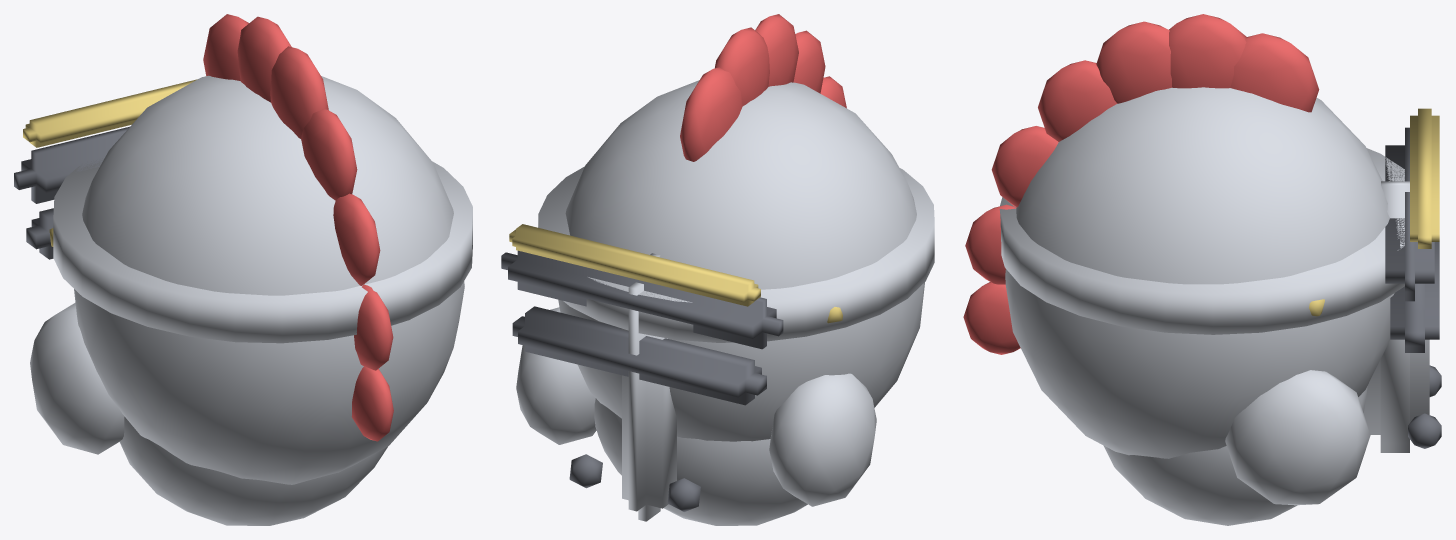
The model's file is knighthelm.glb.
3 views of the same model, side by side, from view 1: azimuth 30°, elevation 25°; view 2: azimuth 150°, elevation 25°; view 3: azimuth 270°, elevation 25° (orthographic). The views are drawn at different scales.
Parts seen in each view (by area): view 1: knighthelm; view 2: knighthelm; view 3: knighthelm.
Part boxes in pixels (bbox=[...]): knighthelm: bbox=[14, 14, 472, 525]; knighthelm: bbox=[501, 14, 934, 525]; knighthelm: bbox=[963, 14, 1441, 525].
Size of the model in its own units: 0.4182 by 0.5574 by 0.4859.
